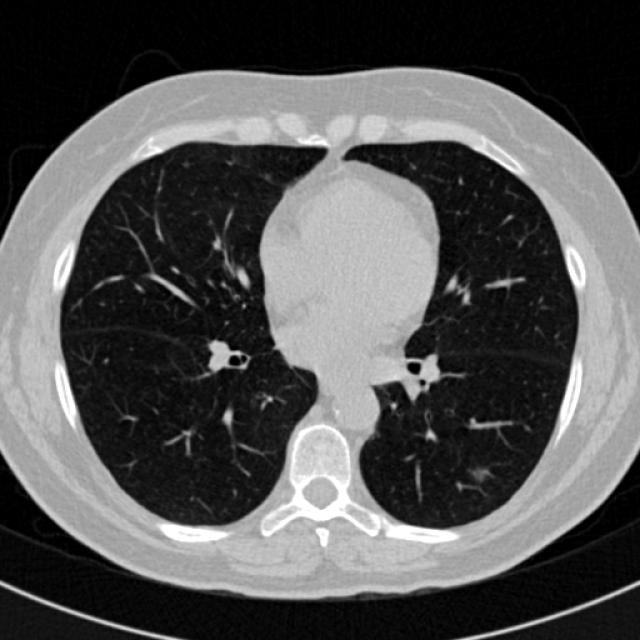nodule: (463, 456, 495, 489)
